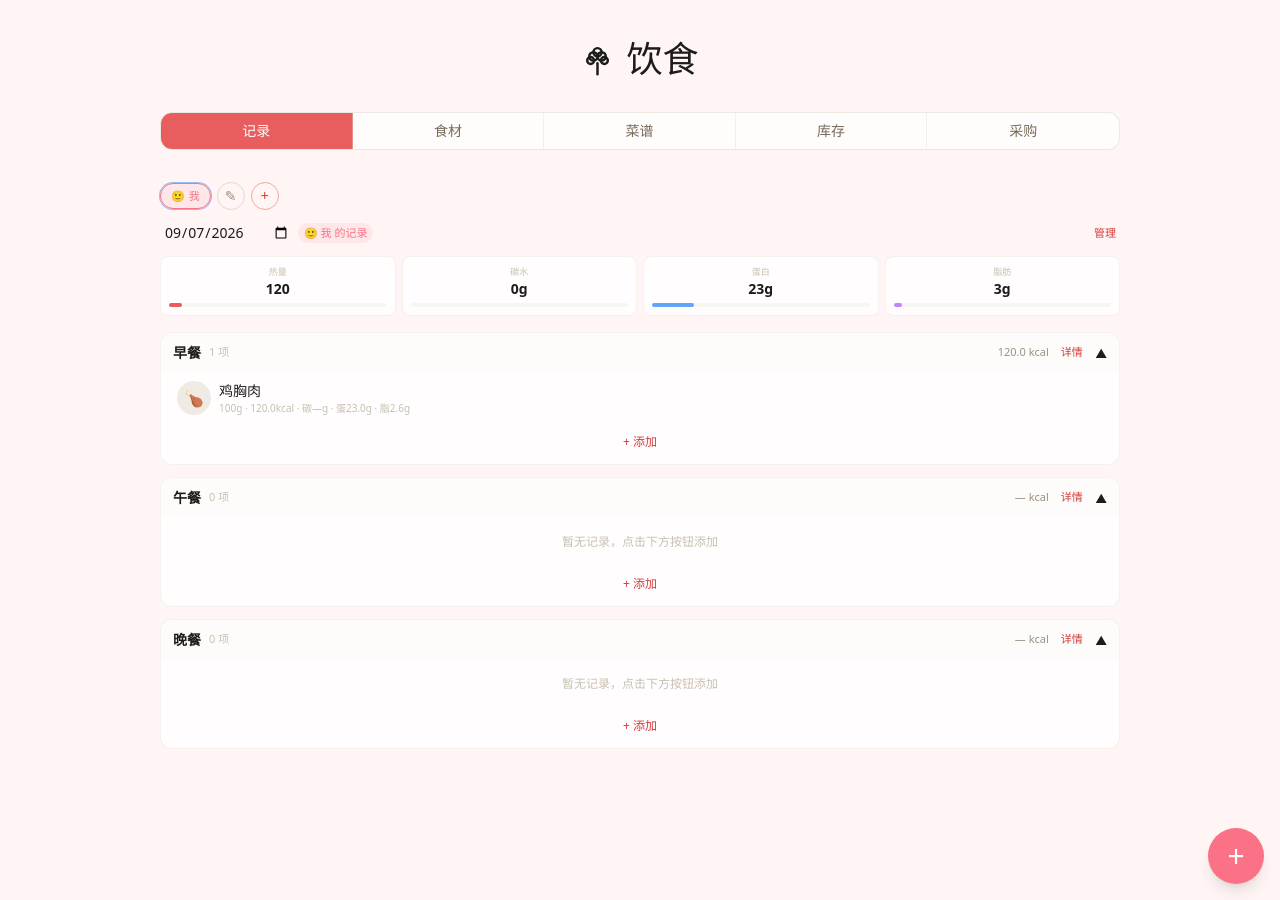
Test: 记录页修改食物 › 在编辑抽屉改分量后保存，数据回写 store
Step 1. Click the element with test id "log-row" → (294, 398), box [177,380,410,415]
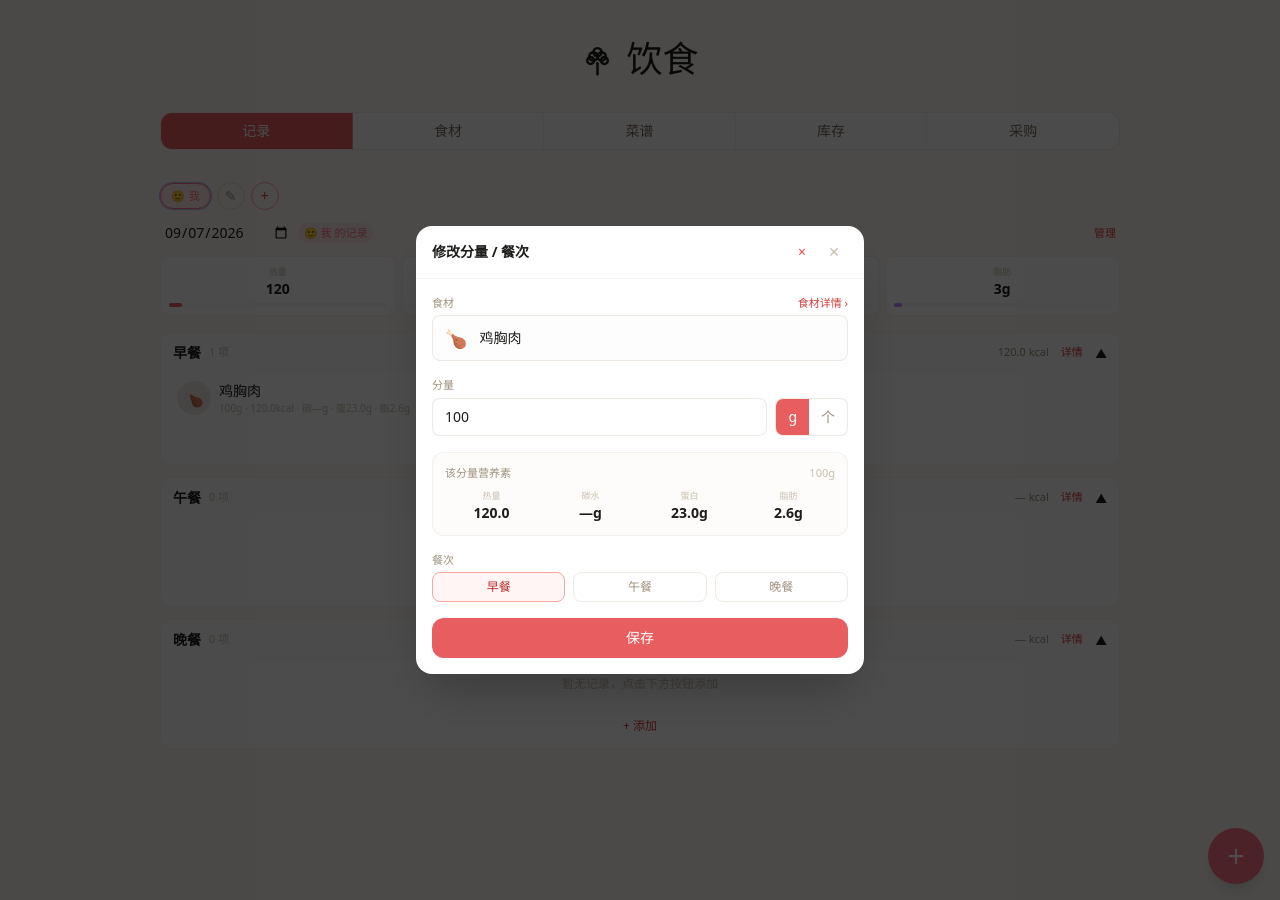
Step 2. Replace the text in the number field with "250" → (600, 417), box [432,398,767,436]
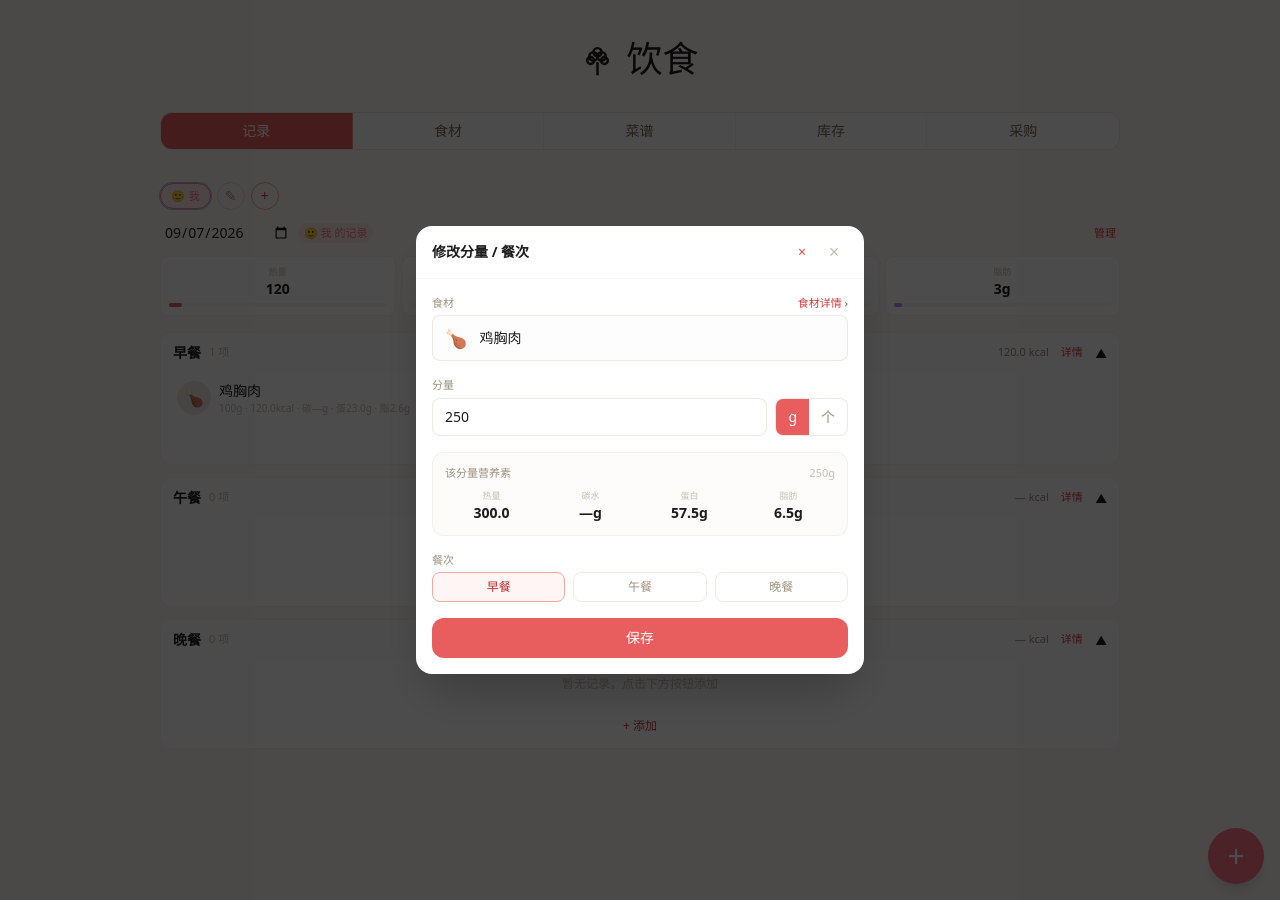
Check: the button "保存" is shown
Step 3. Click the button "保存" → (640, 638), box [432,618,848,658]
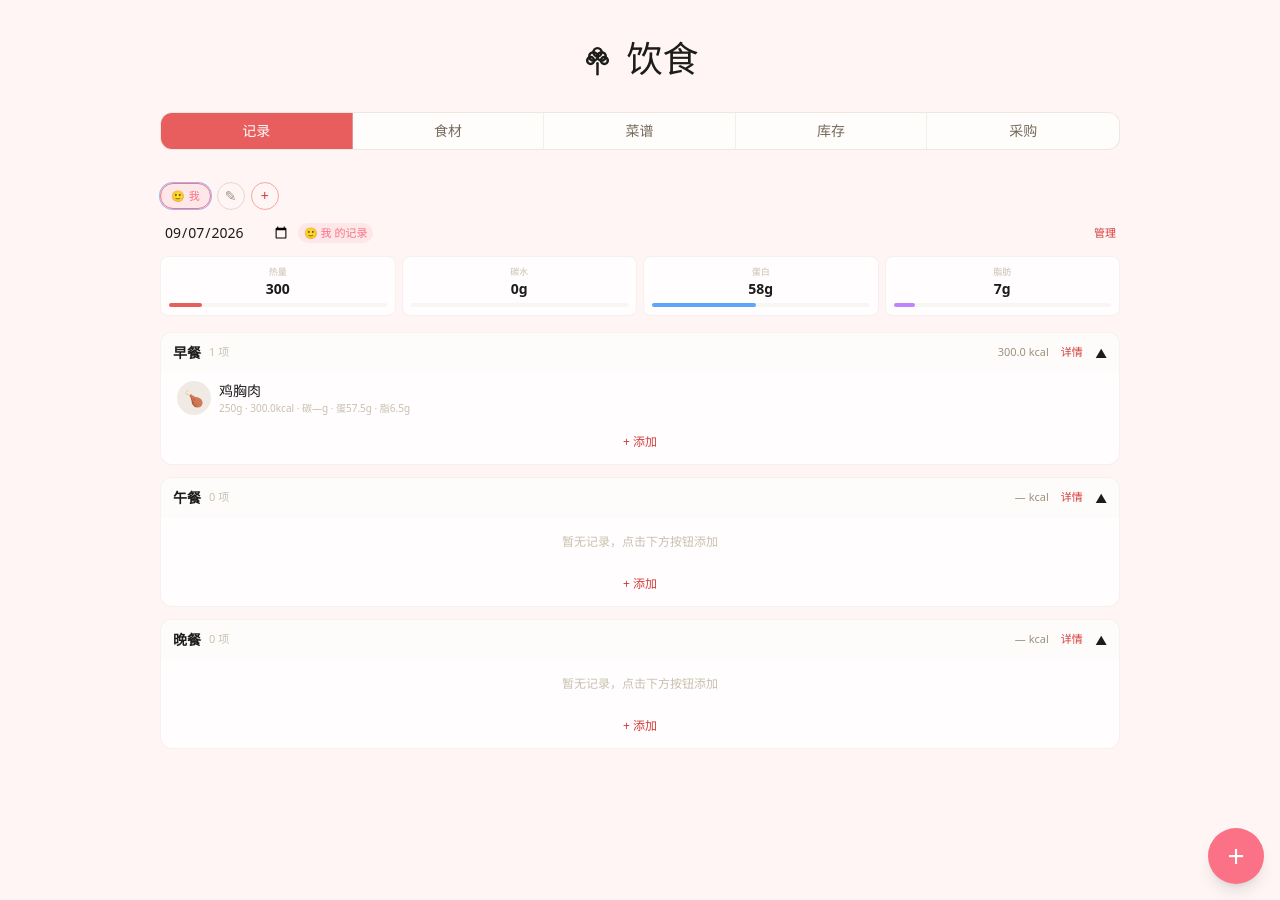
Check: the element with test id "edit-sheet" is gone
